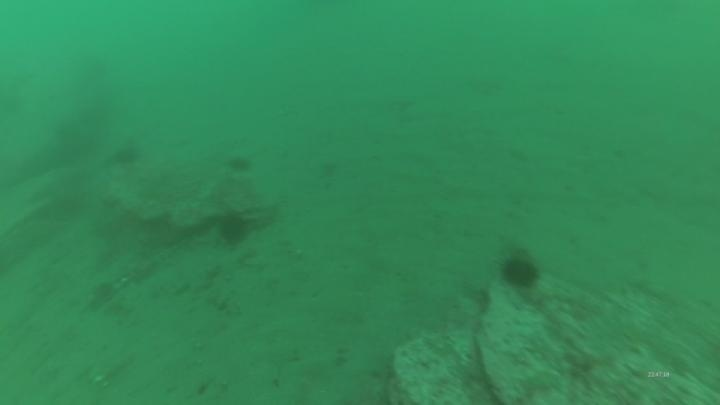echinus: (498, 252, 542, 292), (214, 210, 252, 248), (110, 141, 144, 170), (225, 152, 255, 177)
